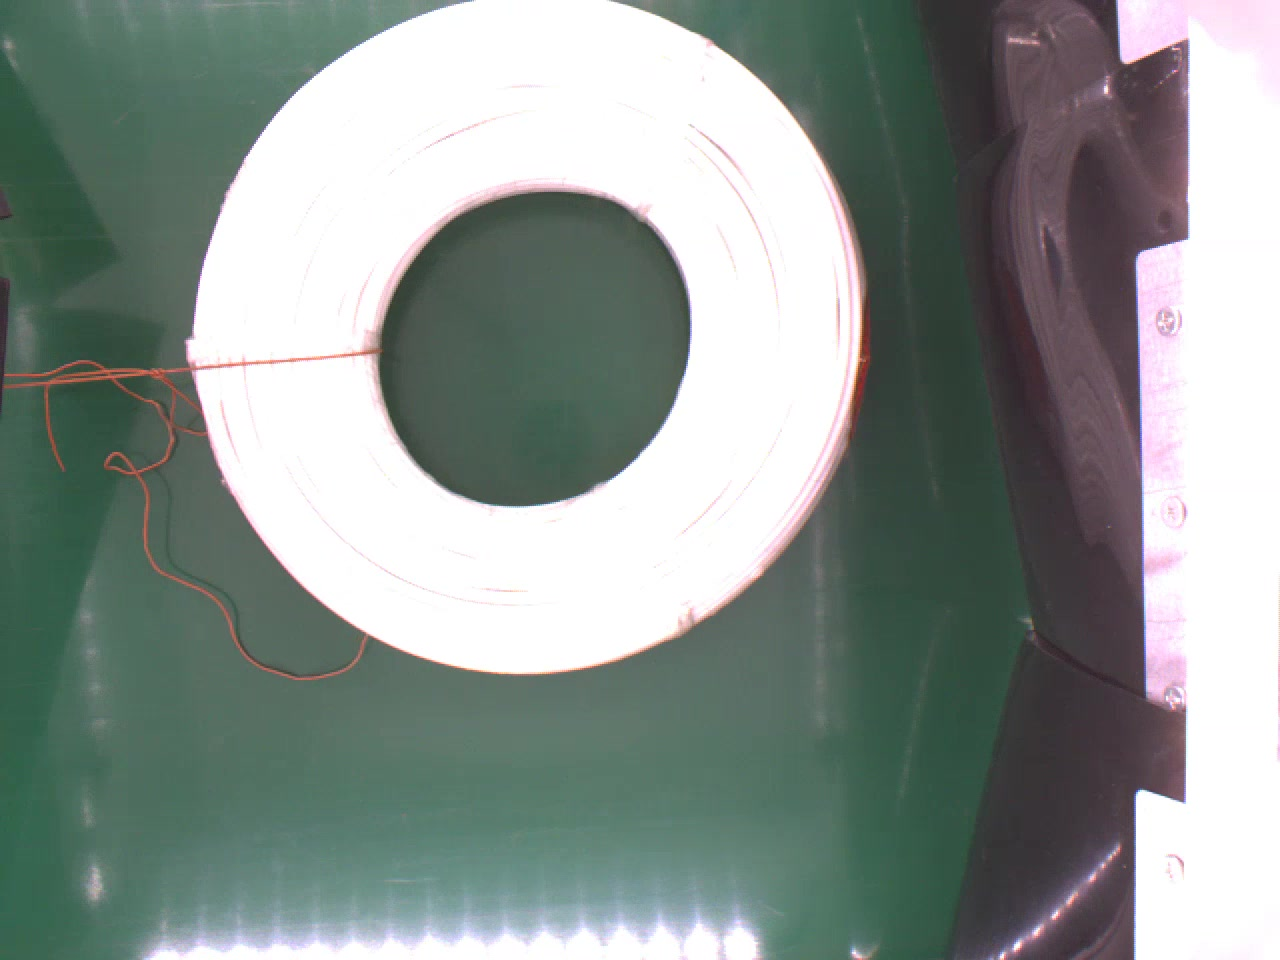white: (183, 0, 876, 668)
